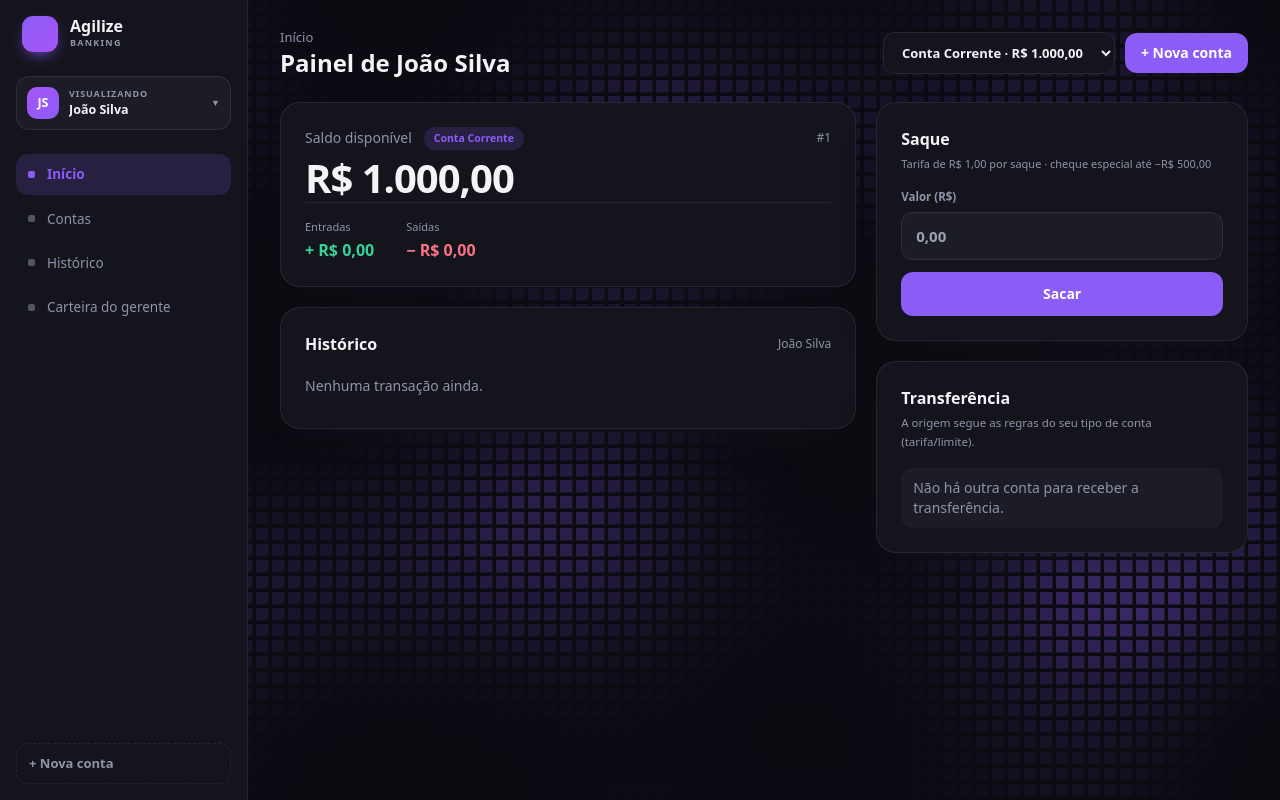
it: App (smoke) › abre o modal ao clicar em + Nova conta
Click the 2nd button "+ Nova conta" at (124,763), box [16, 742, 231, 784]
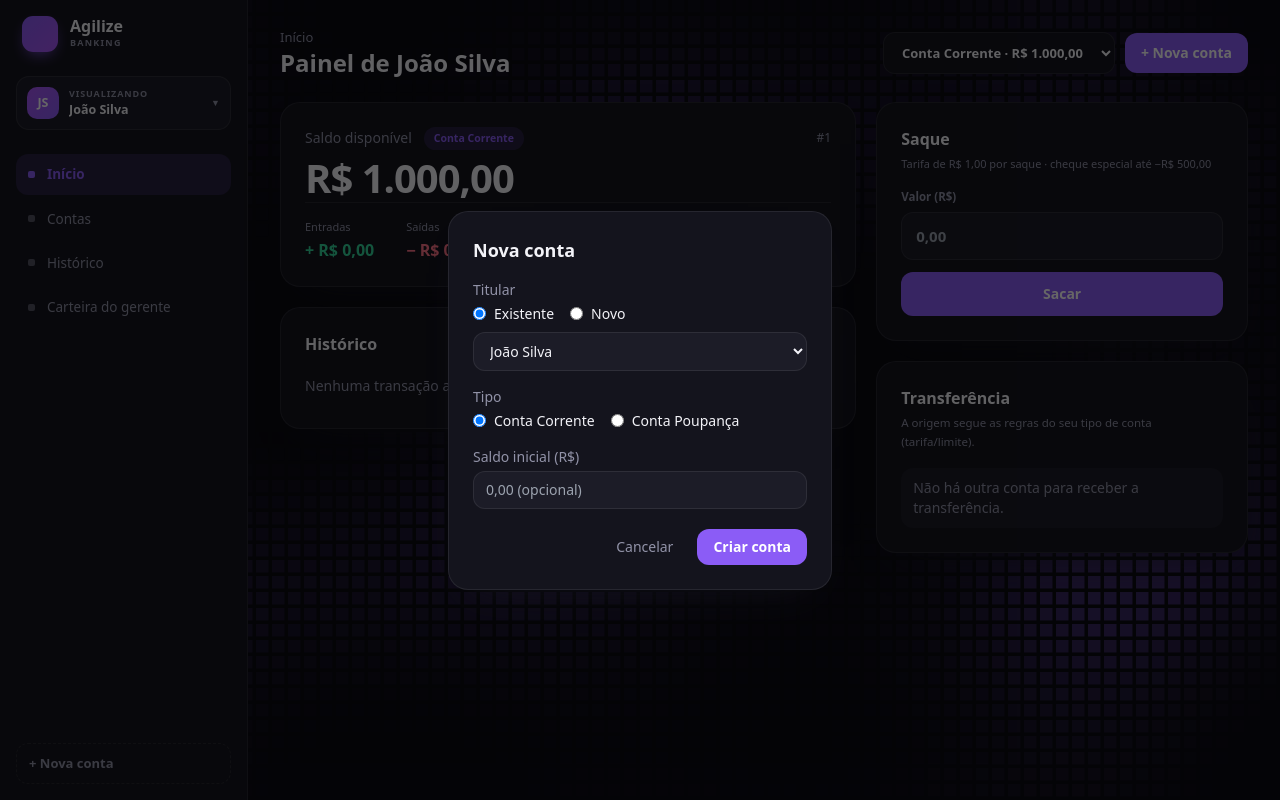
expect the heading "Nova conta" is shown: met, box [473, 238, 575, 262]
